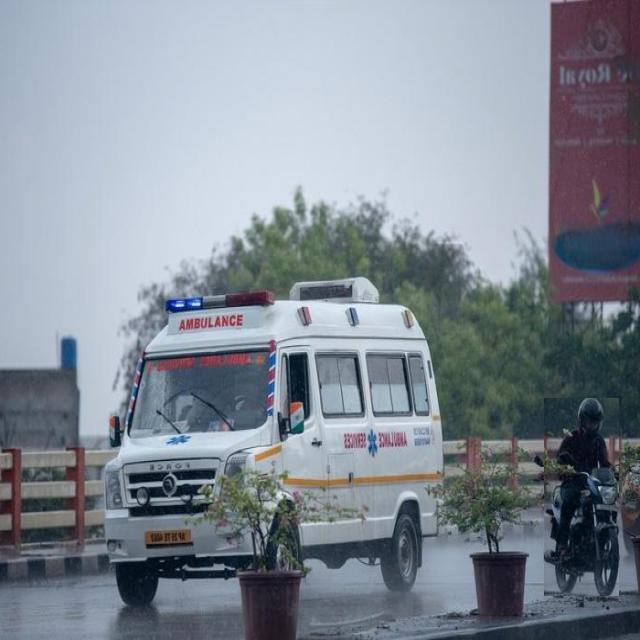emergency: (105, 277, 444, 605)
motorcycle: (544, 398, 619, 596)
